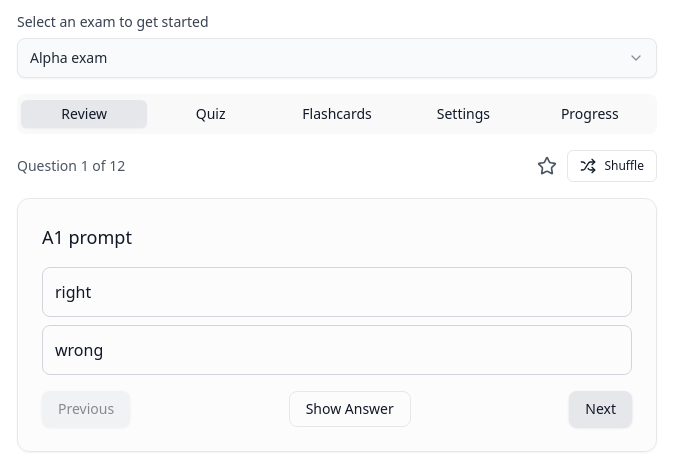
Test case: B5 — exam-switch race › clears the old bank as soon as the exam changes
expect the text "A1 prompt" is shown: met, box [42,225,132,249]
Press Enter in the dropdown, box [17,38,657,78]
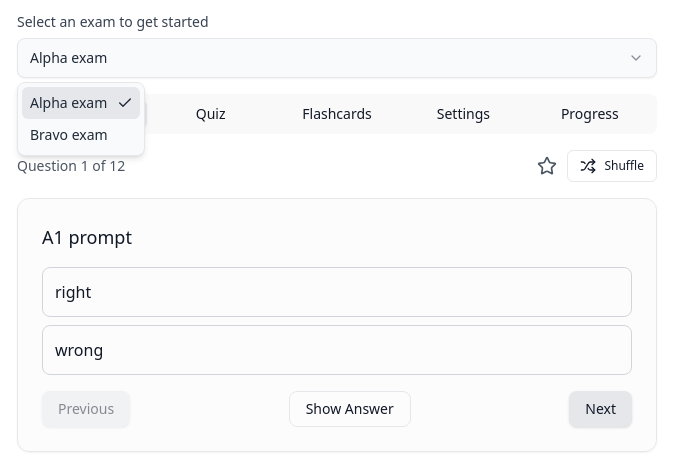
Click the option "Bravo exam".
click(69, 134)  # box [30,125,108,144]
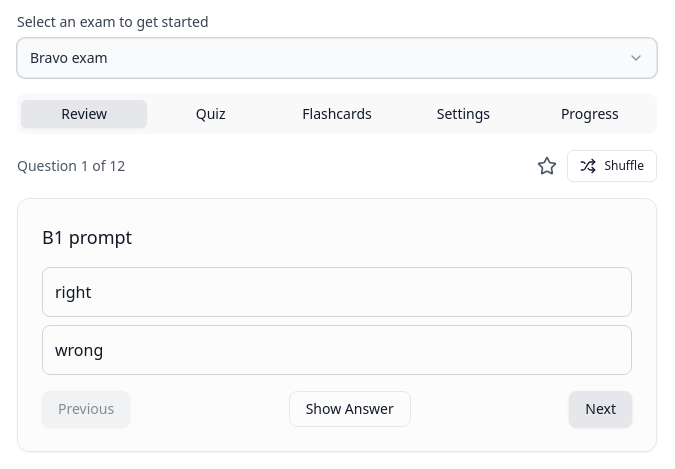
expect the text "A1 prompt" is gone: met
expect the text "B1 prompt" is shown: met, box [42,225,132,249]
